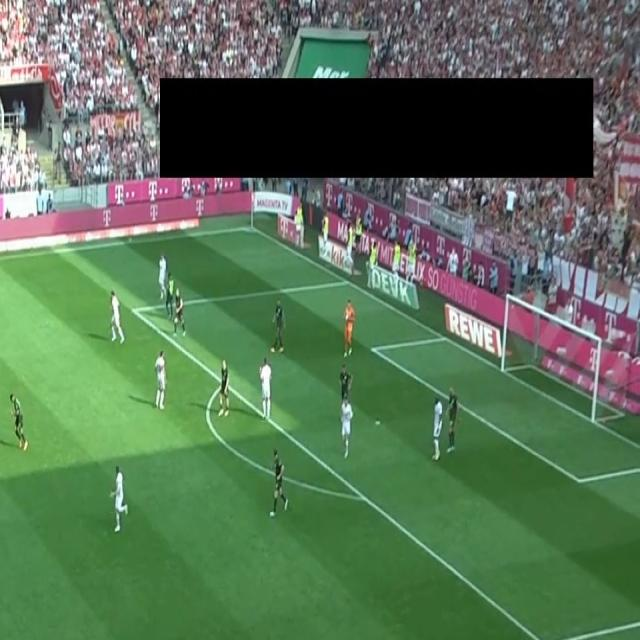ball: (344, 312, 350, 322)
